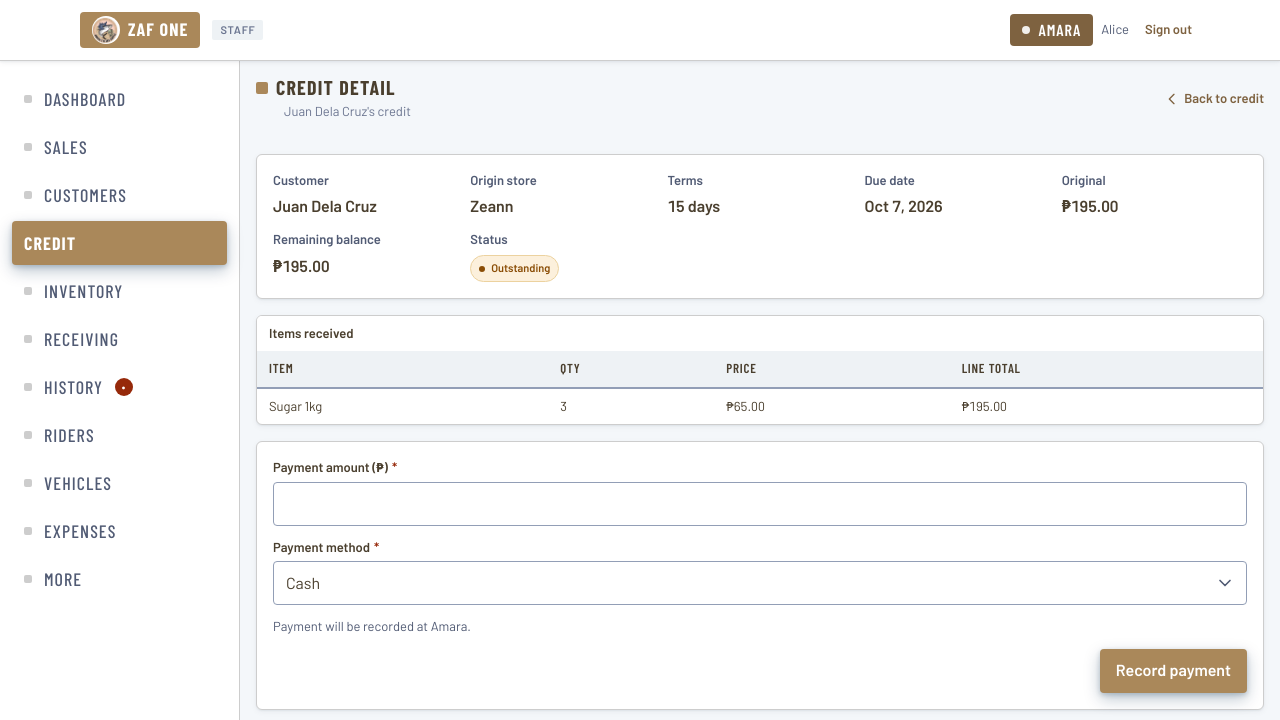
Test: CreditDetailPage › records a cross-store payment against a credit from the other store
Type "50" into the number field labelled "Payment amount (₱)*".
click(760, 504); type("50")  # box x1=273 y1=482 x2=1247 y2=526
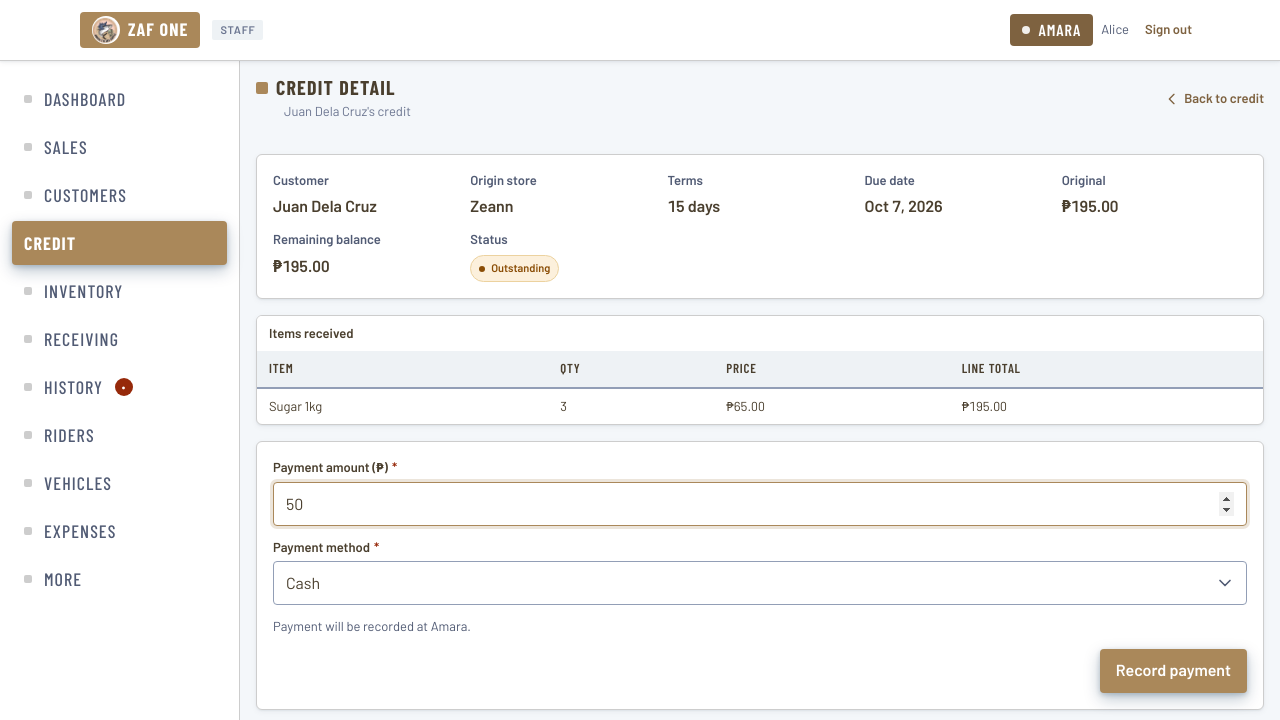
Click the button "Record payment".
click(1173, 671)  # box x1=1100 y1=649 x2=1247 y2=693
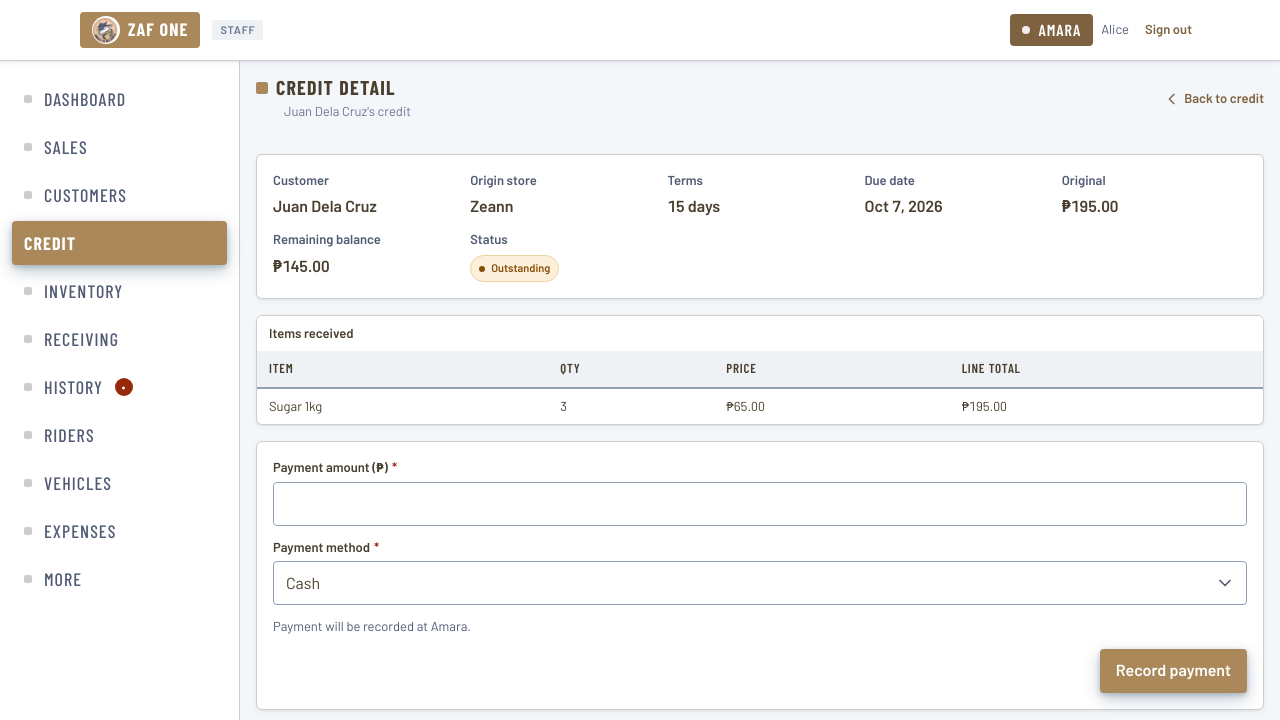
Expected: the text "₱145.00" is shown, x1=273 y1=256 x2=330 y2=275
